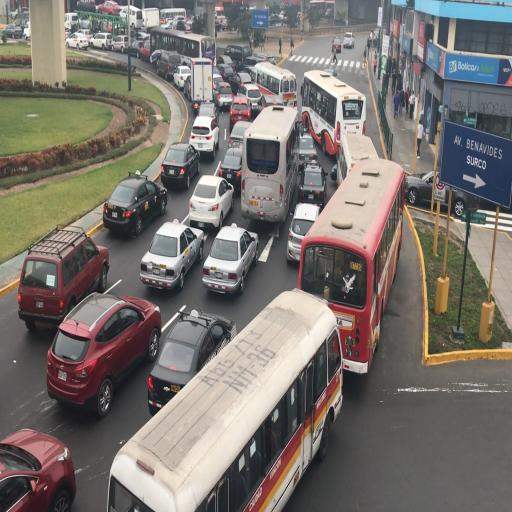auto: (48, 293, 161, 416), (148, 305, 236, 414), (18, 222, 108, 327), (1, 430, 75, 511), (140, 220, 206, 291), (101, 170, 166, 238), (201, 224, 259, 294), (403, 170, 475, 216), (188, 174, 234, 231), (288, 200, 324, 264), (160, 142, 200, 190), (188, 113, 219, 160), (297, 162, 326, 205), (218, 146, 244, 192), (233, 79, 264, 116), (155, 48, 182, 82), (229, 96, 252, 130), (227, 120, 251, 152), (225, 42, 252, 69), (120, 4, 146, 32), (296, 134, 318, 167), (196, 100, 218, 132), (213, 81, 234, 112), (220, 66, 242, 93), (215, 55, 236, 80), (173, 64, 192, 90), (233, 70, 255, 92), (241, 55, 263, 75), (65, 32, 88, 51), (137, 38, 154, 62), (90, 32, 112, 50), (110, 34, 130, 53), (2, 22, 24, 39), (96, 0, 121, 14), (252, 52, 276, 66), (90, 16, 108, 33), (212, 72, 224, 96), (64, 12, 78, 32), (183, 74, 192, 101), (78, 13, 92, 30), (170, 16, 186, 30), (343, 31, 355, 49), (76, 0, 95, 11), (150, 48, 163, 64), (215, 14, 228, 30), (332, 36, 342, 53), (185, 17, 197, 31), (159, 19, 175, 29), (20, 7, 29, 19), (269, 14, 278, 26)
bus: (108, 293, 328, 506), (301, 148, 401, 365), (239, 102, 296, 227), (302, 68, 362, 157), (338, 132, 381, 193), (249, 60, 294, 111)
camion: (189, 58, 213, 110), (141, 7, 160, 32)
moto: (330, 41, 338, 64)
